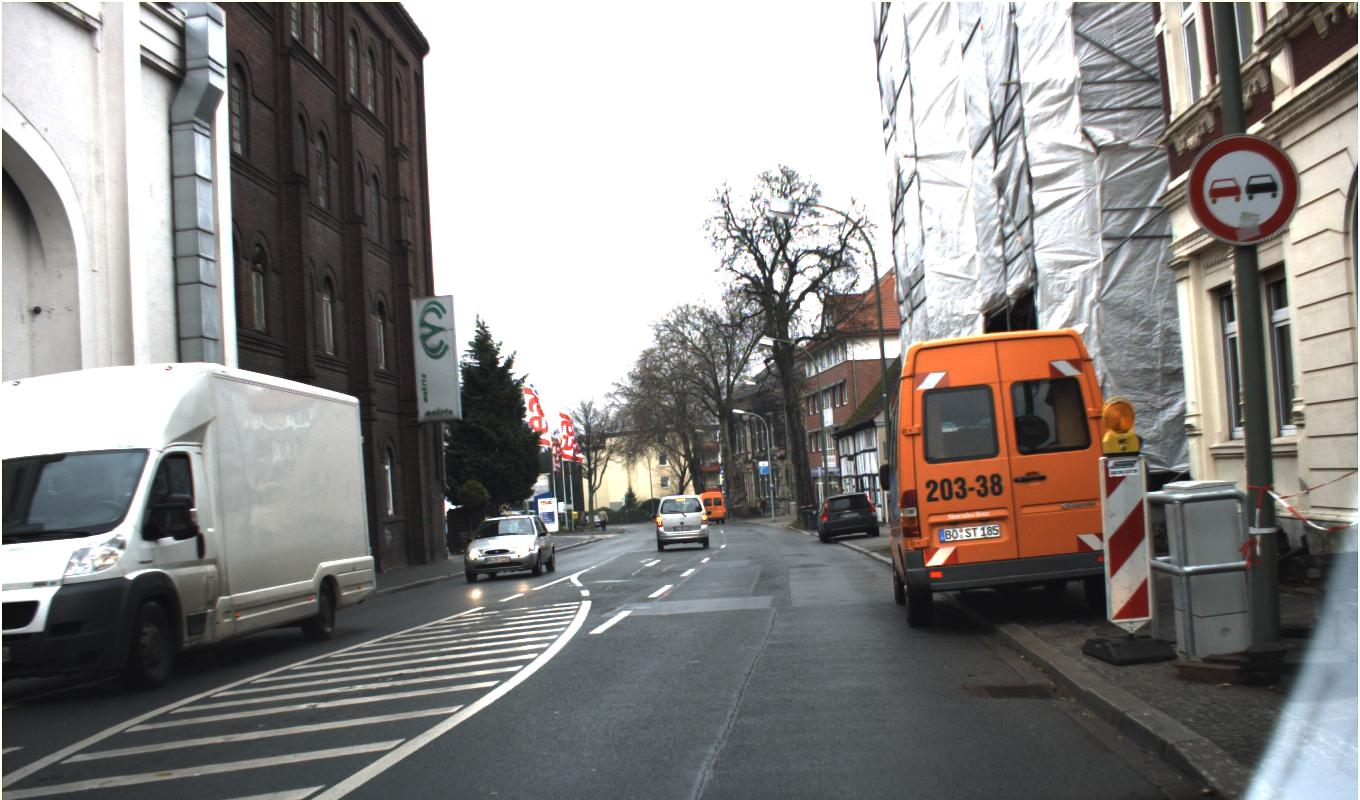prohibitory: (1186, 134, 1301, 244)
